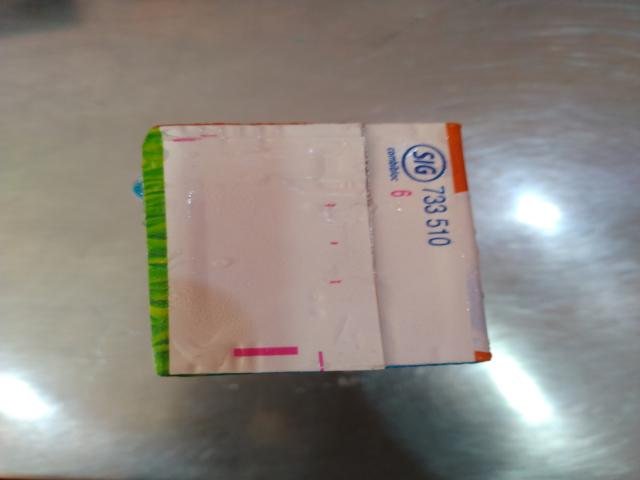drink_box: (110, 107, 521, 384)
